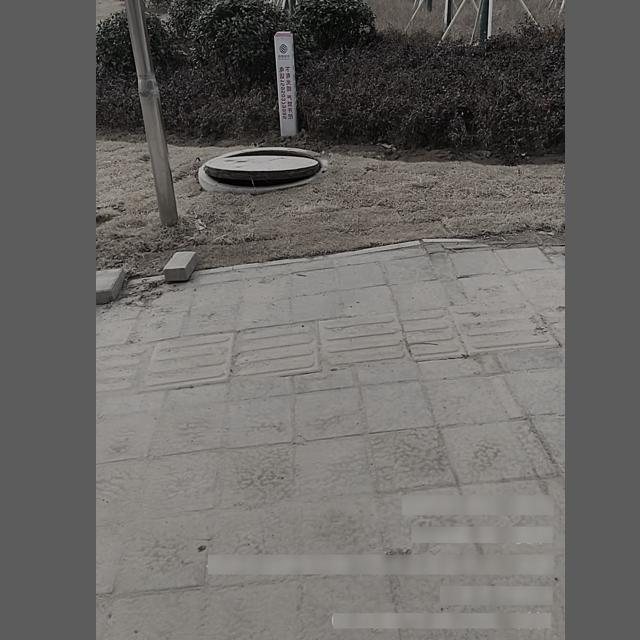uncovered: (198, 141, 329, 197)
